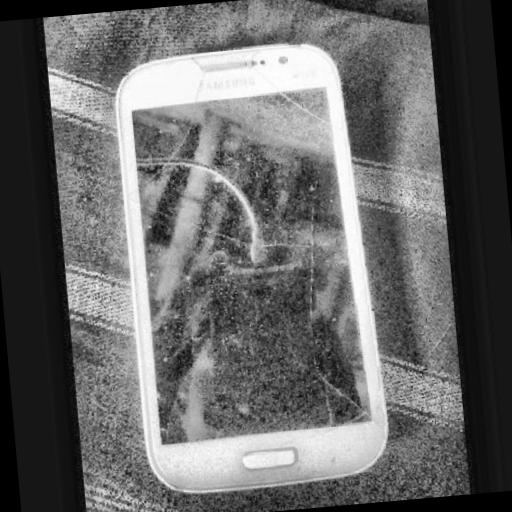phone: (93, 38, 407, 509)
